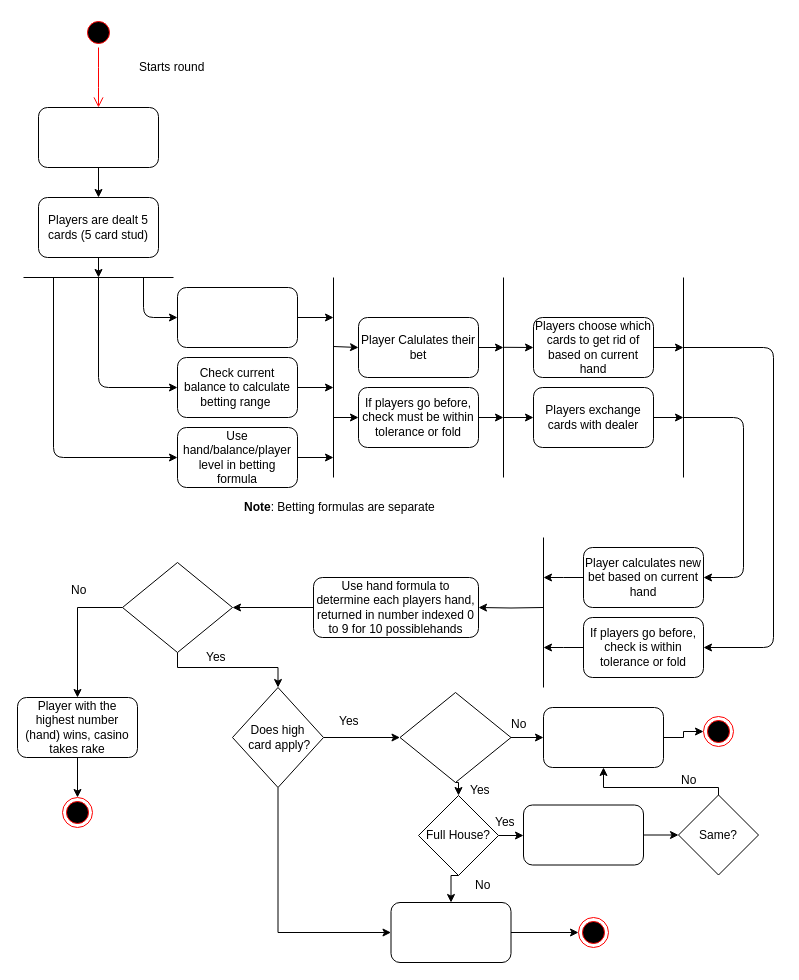
Image size: 799x980. Some labels were removed from this diagram. Each missing label, with the box of its shape:
2 players with same hand?: (122, 562, 232, 652)
Automatically analyze hand for combos: (176, 286, 298, 348)
Calculate high card of the pair.: (522, 804, 644, 865)
Dealer starts by setting big/little blind for ante, all check: (38, 106, 158, 168)
Does same high card appear?: (399, 692, 511, 782)
Player with the higher card wins, casino takes rake: (542, 706, 664, 768)
Players split pot, casino takes rake: (390, 902, 511, 962)
